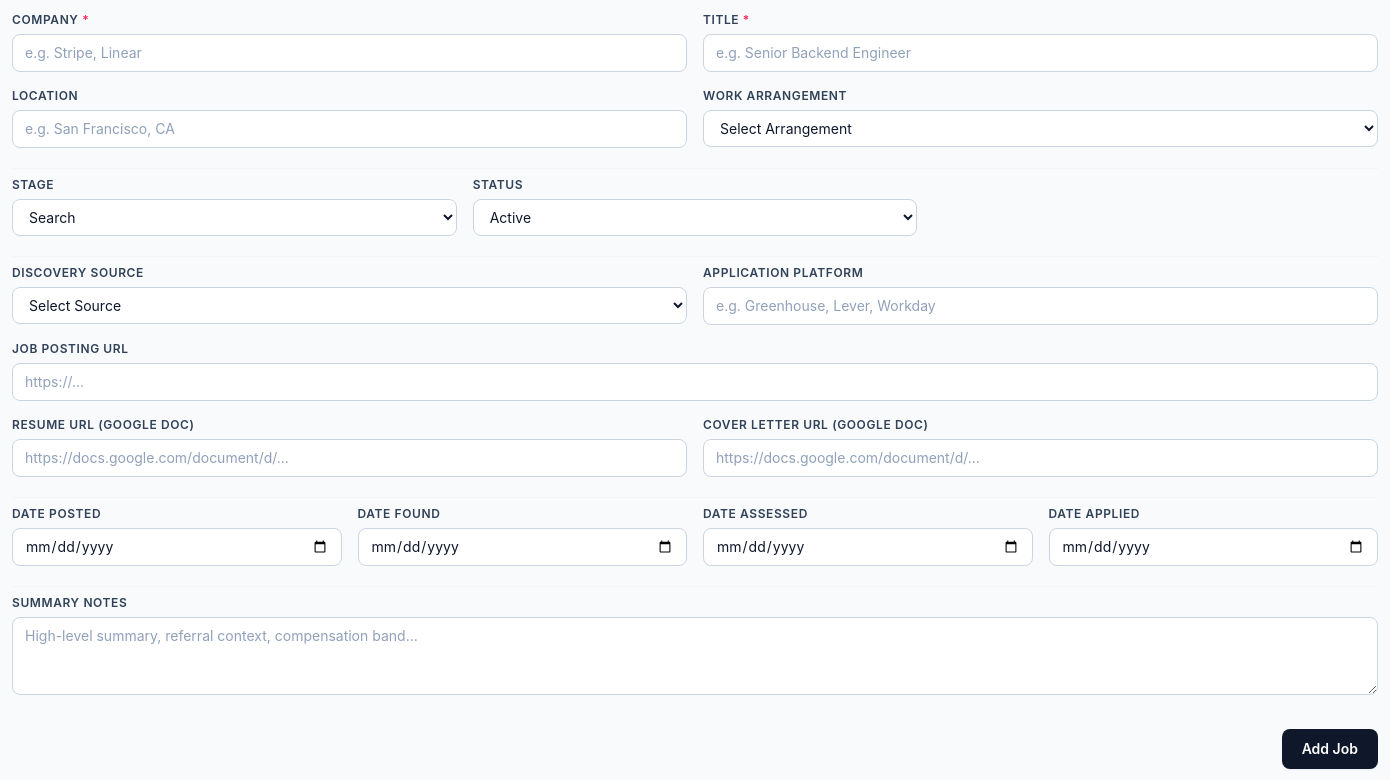
Test: CreateJobForm › resets all inputs back to initial state after successful submit
Type "Acme Corp" into the field labelled "Company *" at coordinates (350, 53), box [12, 34, 687, 72]
Type "Systems Architect" into the field labelled "Title *" at coordinates (1040, 53), box [703, 34, 1378, 72]
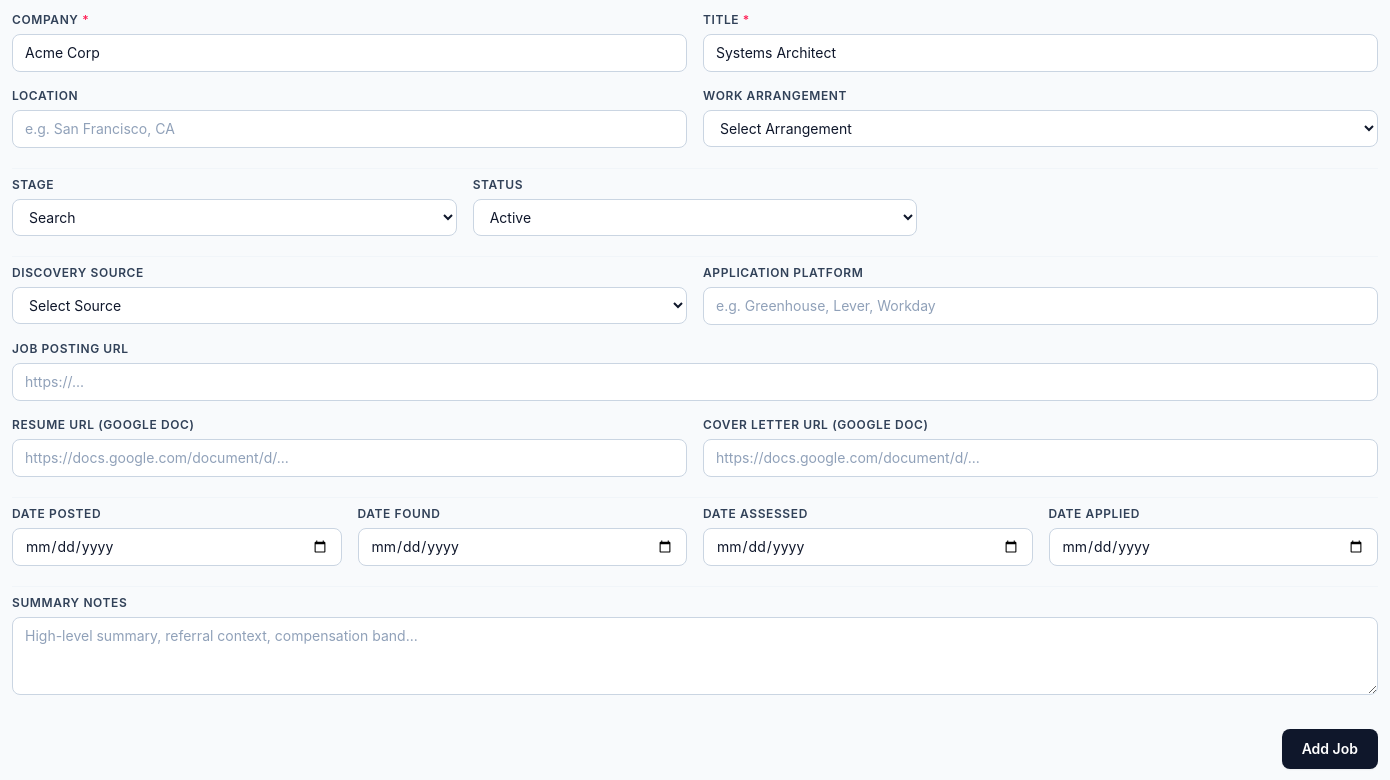
Select "LinkedIn" in the dropdown labelled "Discovery Source" at coordinates (350, 306), box [12, 287, 687, 324]
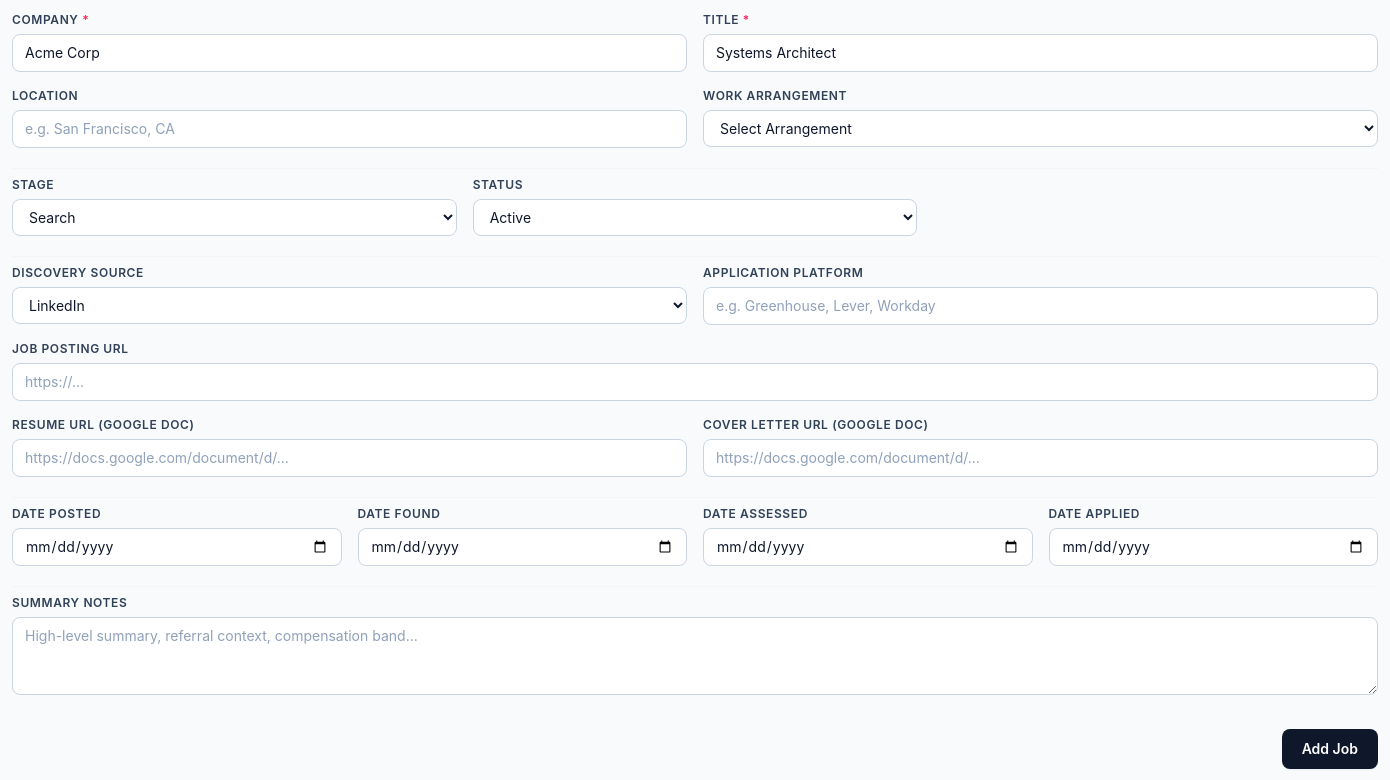
Select "Interviewing" in the dropdown labelled "Stage" at coordinates (234, 218), box [12, 199, 457, 236]
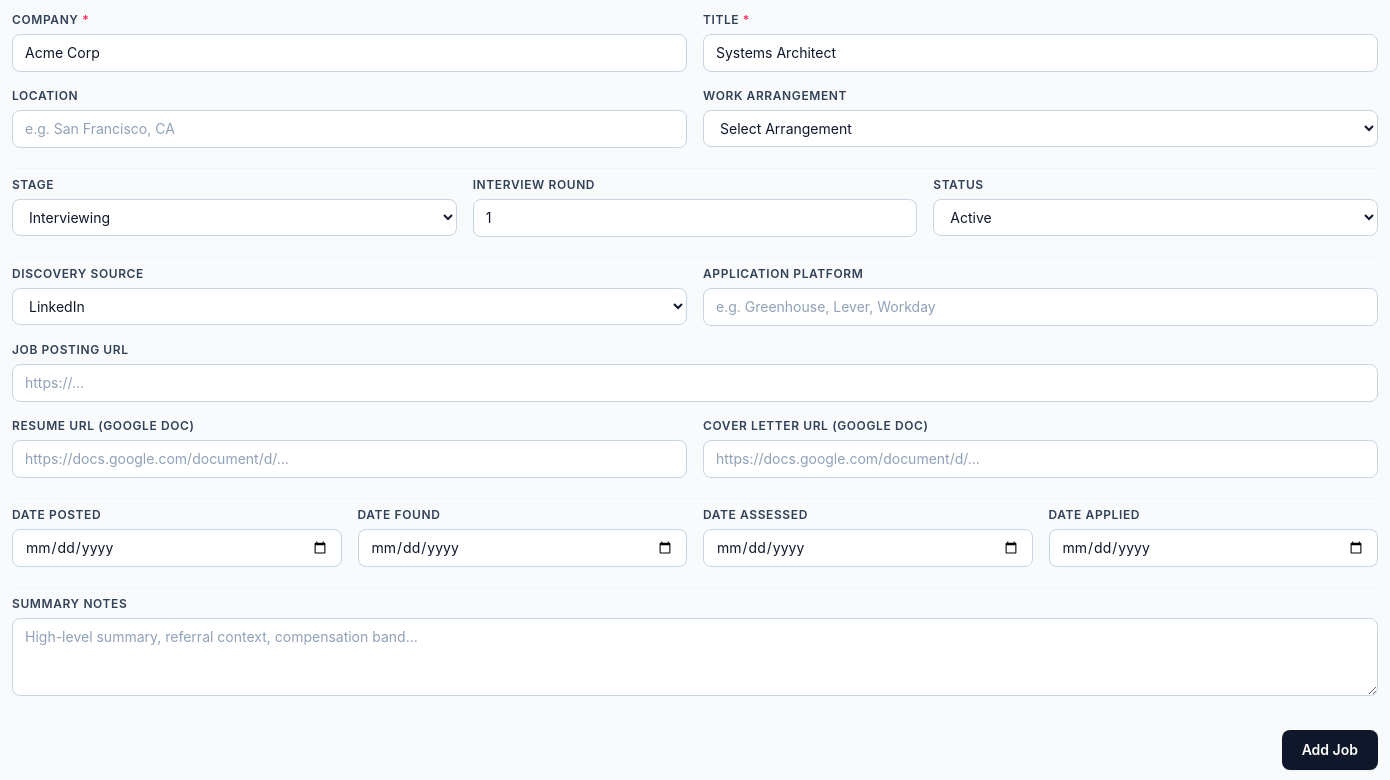
Type "2026-11-10" into the date field labelled "Date Applied" at coordinates (1213, 548), box [1048, 529, 1378, 567]
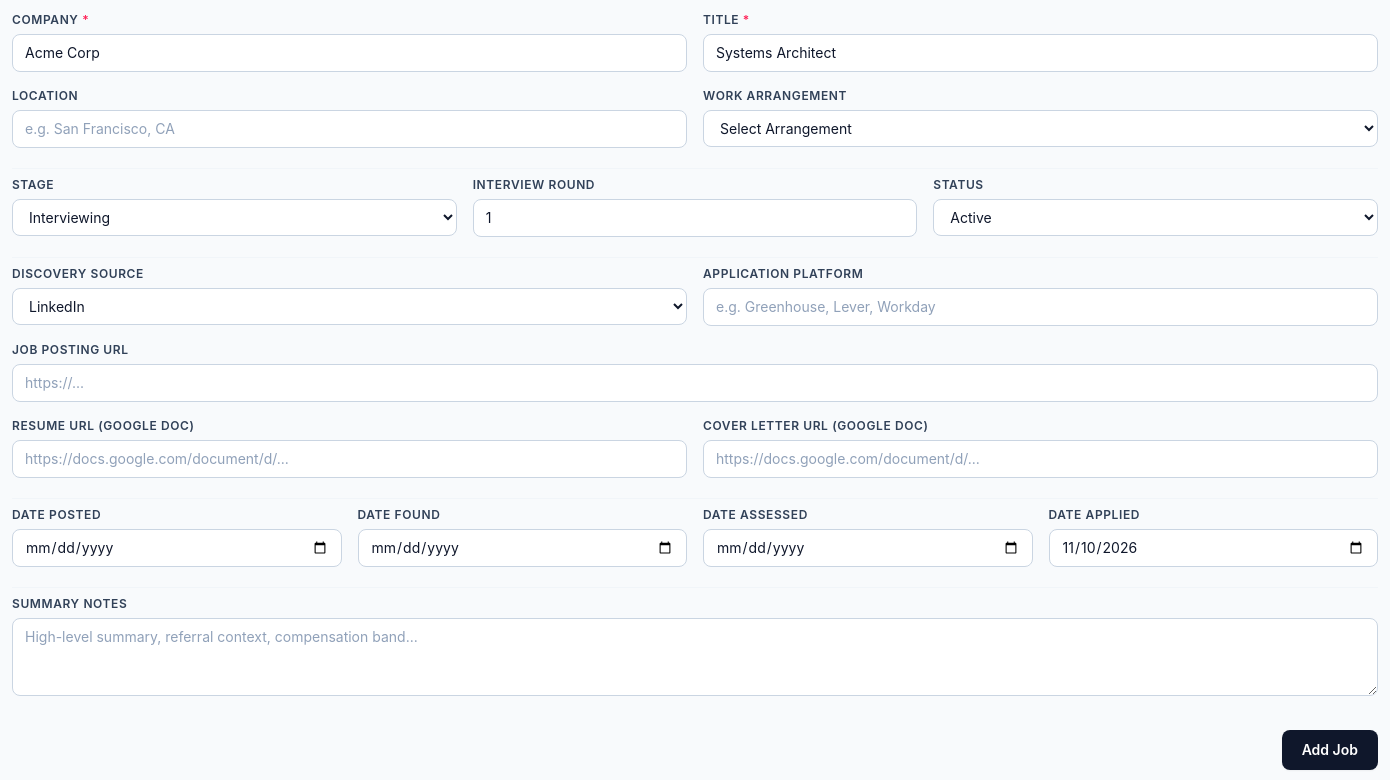
Type "Follow up next Tuesday" into the text box labelled "Summary Notes" at coordinates (695, 657), box [12, 618, 1378, 696]
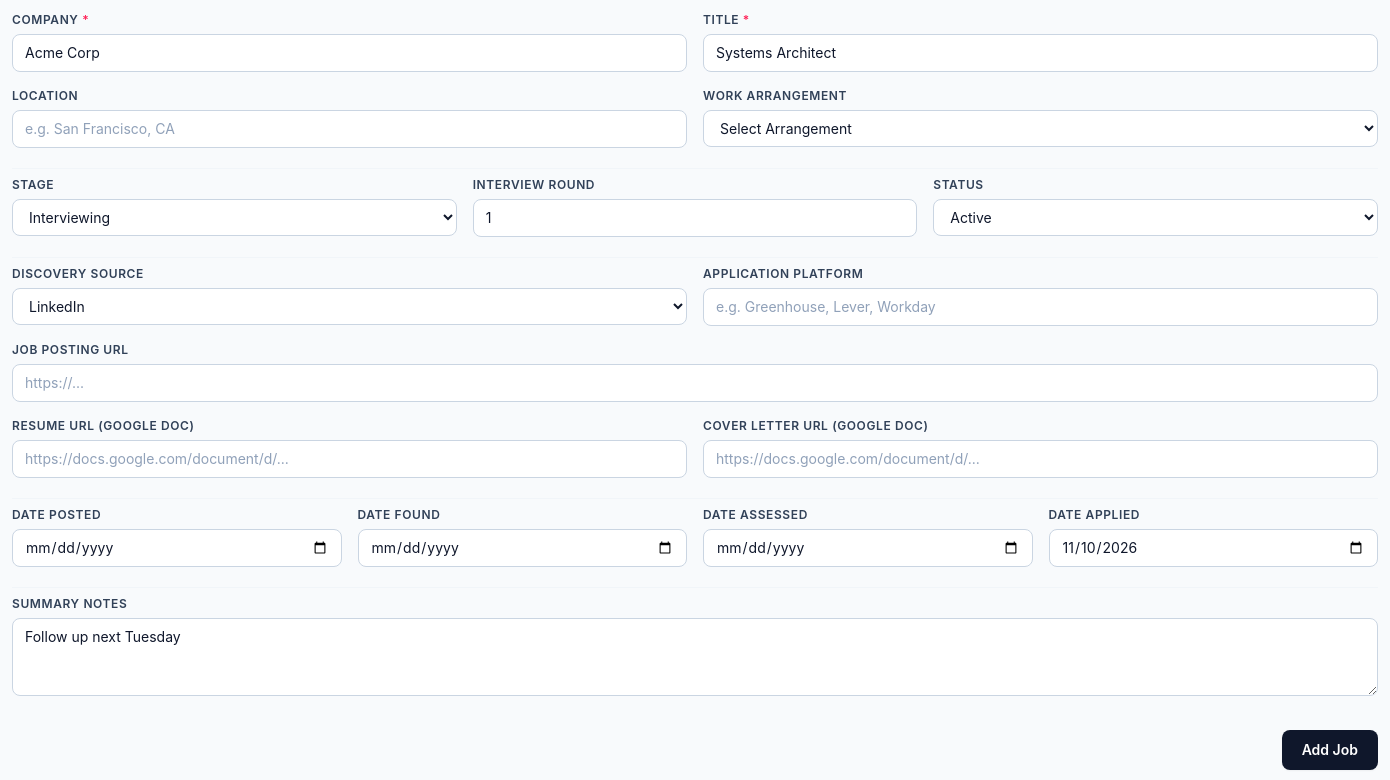
Click the button "Add Job" at coordinates (1330, 750), box [1282, 730, 1378, 770]
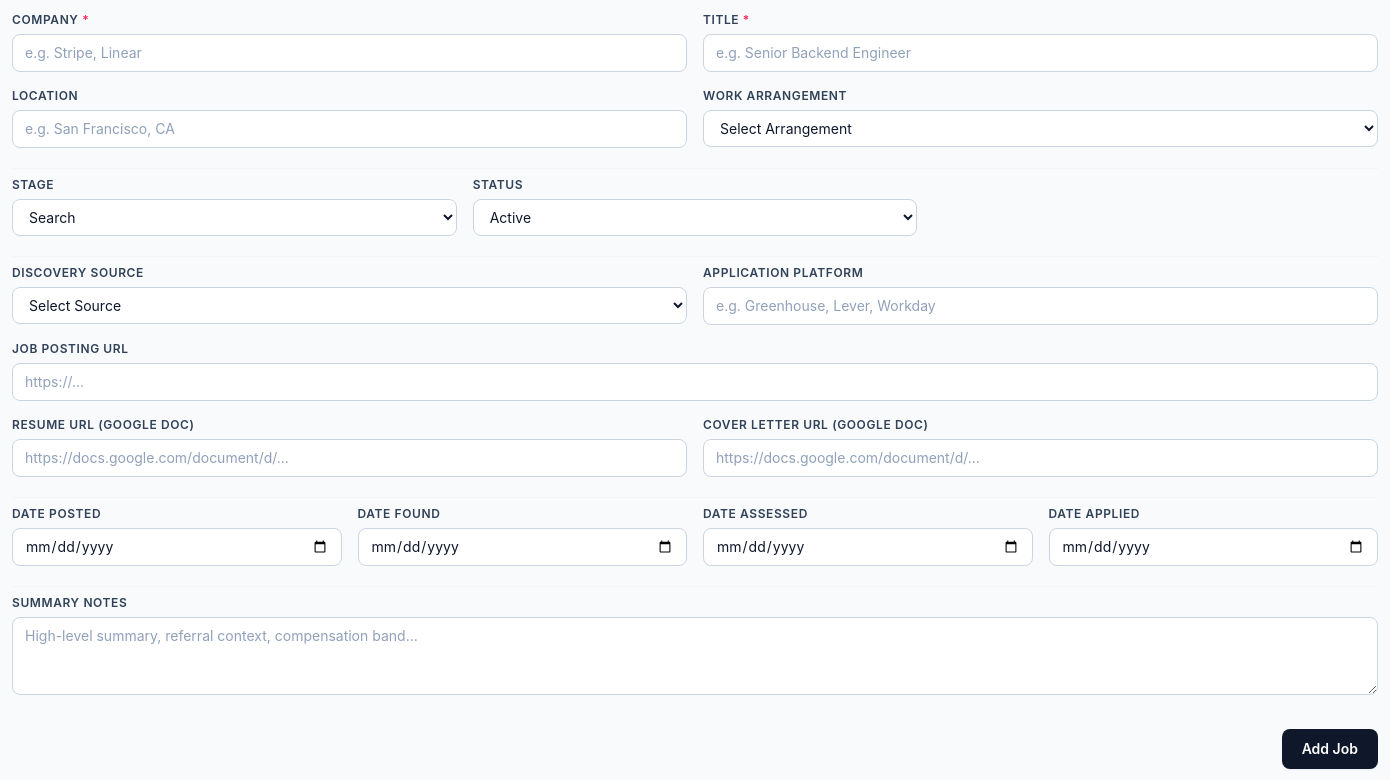
Check: the field labelled "Company *" is empty, box [12, 34, 687, 72]
Check: the field labelled "Title *" is empty, box [703, 34, 1378, 72]
Check: the label labelled "Interview Round" is gone
